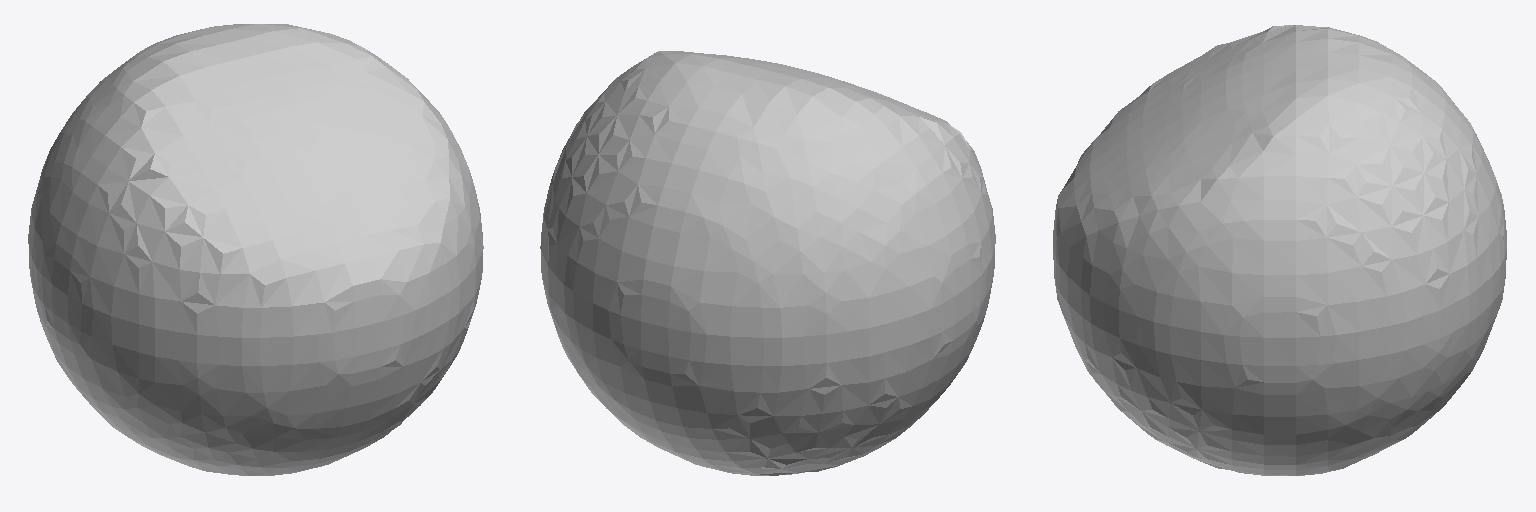
Rendered from Interior.obj.
3 views of the same model, side by side, from view 1: azimuth 30°, elevation 25°; view 2: azimuth 150°, elevation 25°; view 3: azimuth 270°, elevation 25° (orthographic).
Parts seen in each view (by area): view 1: Quad_Sphere; view 2: Quad_Sphere; view 3: Quad_Sphere.
Boxes of the visible parts, box(x1,y1,x2,y2) form: Quad_Sphere: box(28, 24, 483, 475); Quad_Sphere: box(540, 51, 995, 475); Quad_Sphere: box(1053, 25, 1506, 475).
Bounding box in the file's own units: 2.55 × 2.45 × 2.55.